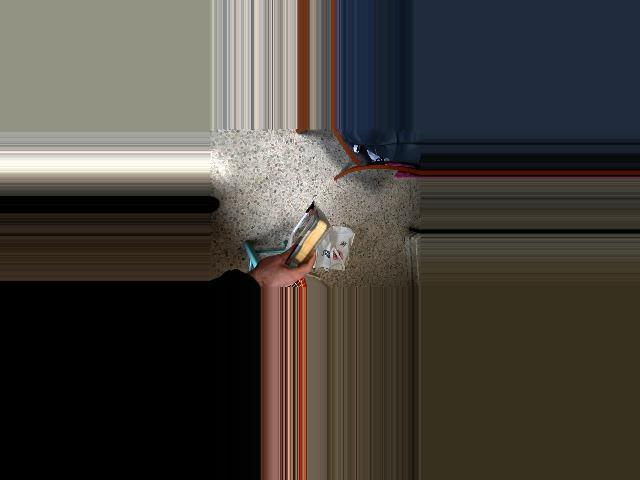cheese: (279, 201, 331, 283)
